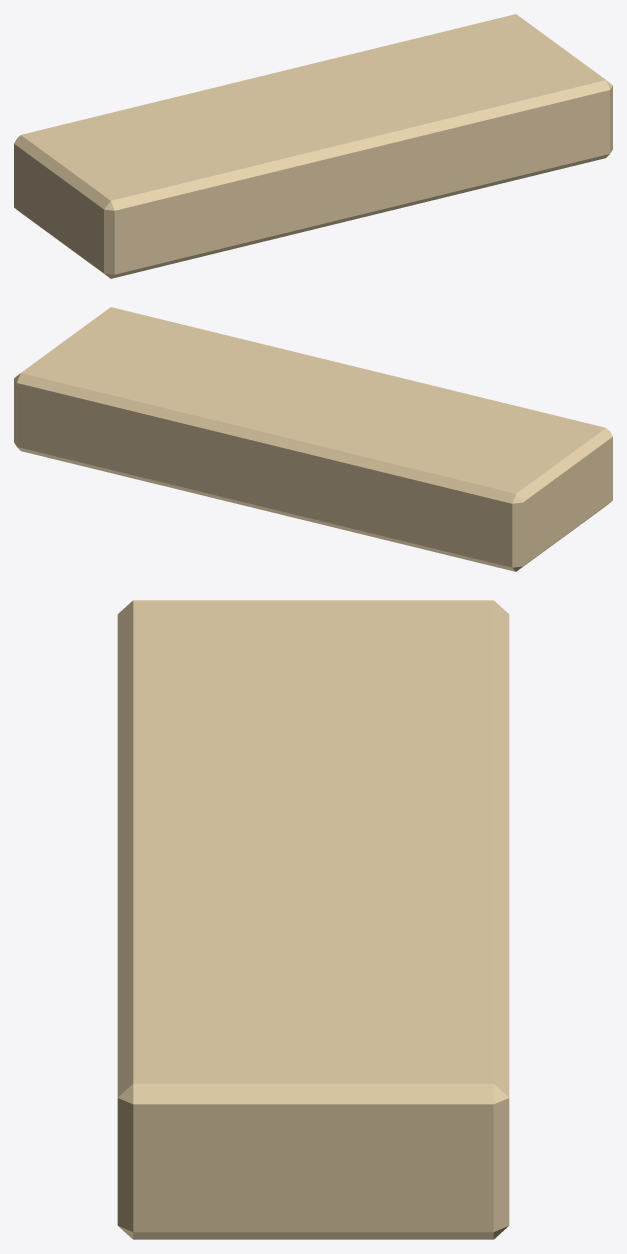
File: ENV_Stair.fbx
3 renders of one model, top to bottom at view 1: azimuth 30°, elevation 25°; view 2: azimuth 150°, elevation 25°; view 3: azimuth 270°, elevation 25°, orthographic. The views are drawn at different scales.
Visible parts, largest first — view 1: ENV_Stair; view 2: ENV_Stair; view 3: ENV_Stair.
Boxes of the visible parts, x1,y1,x2,y2 form: ENV_Stair: (14,14,612,278); ENV_Stair: (14,307,612,571); ENV_Stair: (117,600,509,1239).
Bounding box in the file's own units: 150 × 22 × 50.
